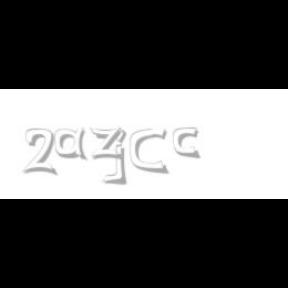2: (22, 128, 56, 176)
C: (130, 128, 166, 174)
a: (54, 128, 92, 160)
c: (172, 128, 202, 160)
j: (112, 128, 140, 186)
z: (89, 128, 125, 160)
